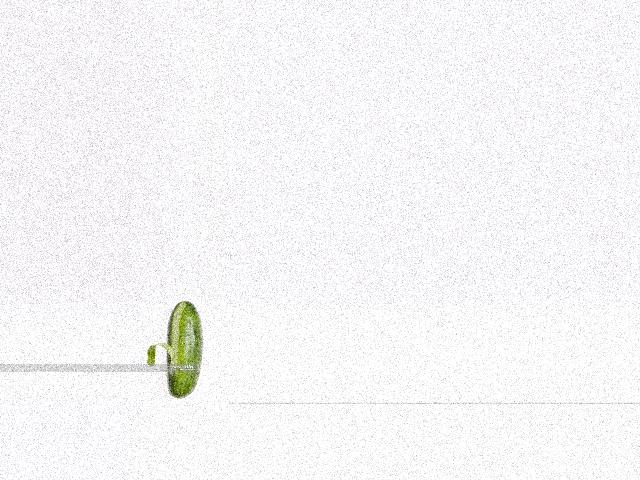cucumber: (165, 301, 202, 399)
